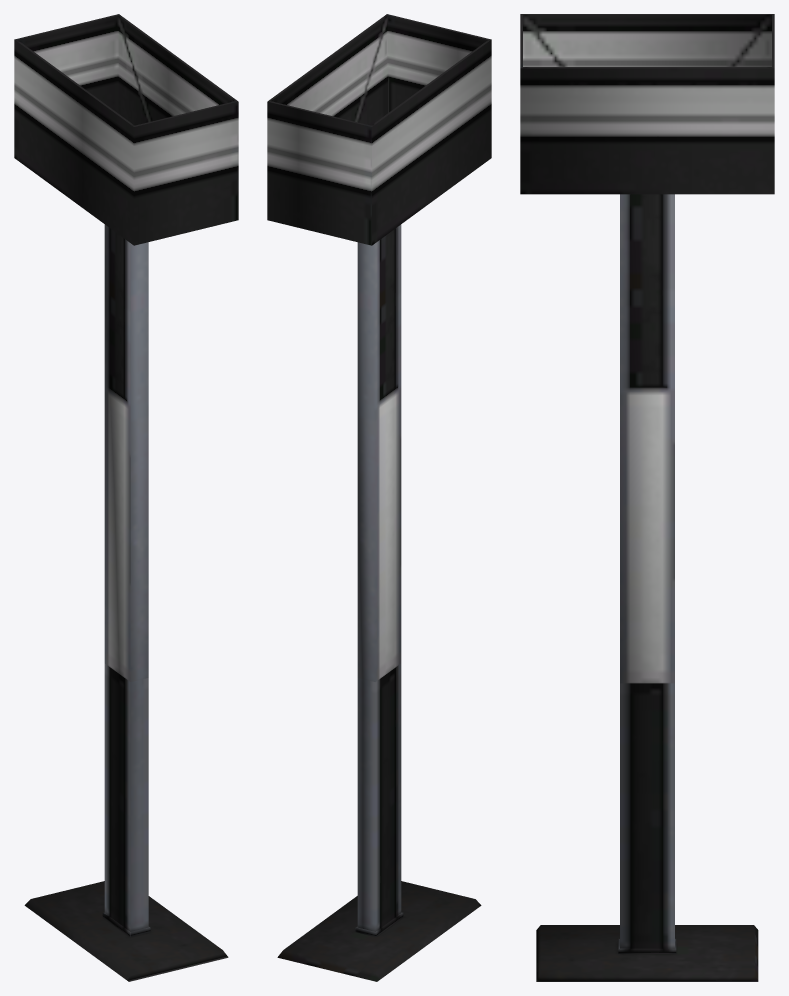
The model's file is Lamp03Floor.FBX.
3 renders of one model, left to right at view 1: azimuth 30°, elevation 25°; view 2: azimuth 150°, elevation 25°; view 3: azimuth 270°, elevation 25°, orthographic. The views are drawn at different scales.
Parts seen in each view (by area): view 1: Lamp03Floor; view 2: Lamp03Floor; view 3: Lamp03Floor.
Boxes of the visible parts, x1,y1,x2,y2 form: Lamp03Floor: [14, 14, 238, 981]; Lamp03Floor: [267, 14, 491, 981]; Lamp03Floor: [520, 14, 774, 981].
Bounding box in the file's own units: 0.2543 × 2 × 0.504.
